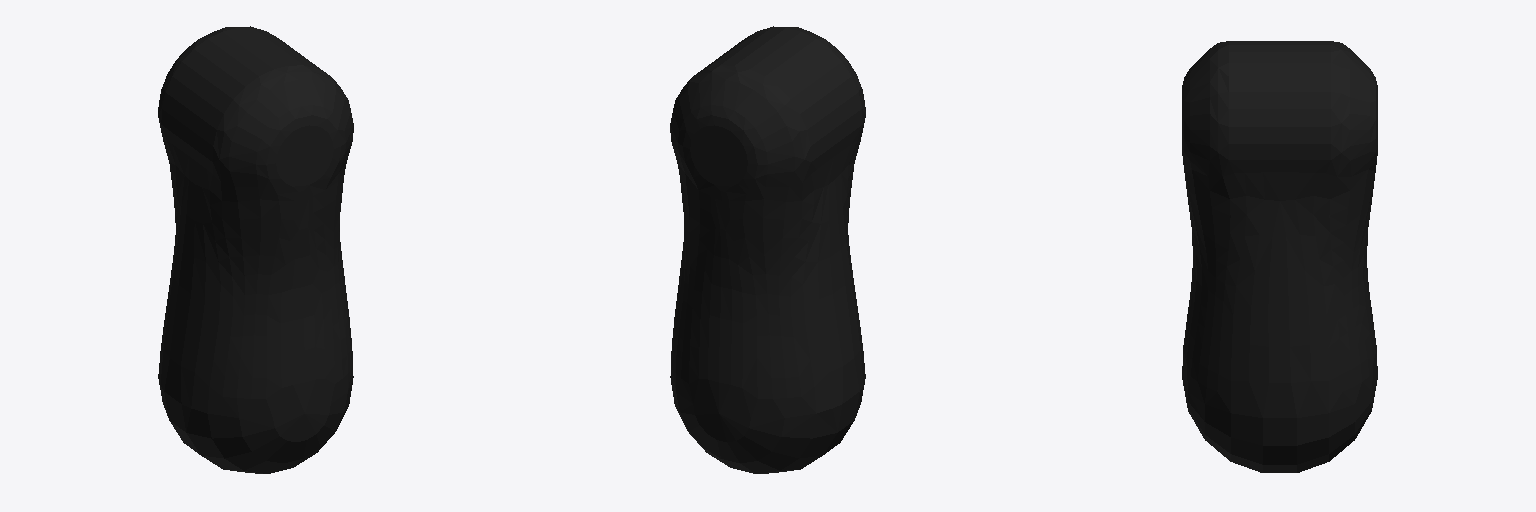
The picture shows the model from 3 angles: view 1: azimuth 30°, elevation 25°; view 2: azimuth 150°, elevation 25°; view 3: azimuth 270°, elevation 25°; orthographic projection.
Visible parts, largest first — view 1: th_middle_th_middle_001; view 2: th_middle_th_middle_001; view 3: th_middle_th_middle_001.
Boxes of the visible parts, box(x1,y1,x2,y2) form: th_middle_th_middle_001: box(158, 26, 353, 473); th_middle_th_middle_001: box(670, 26, 865, 473); th_middle_th_middle_001: box(1182, 41, 1377, 472).
Size of the model in its own units: 0.2163 by 0.5162 by 0.2209.